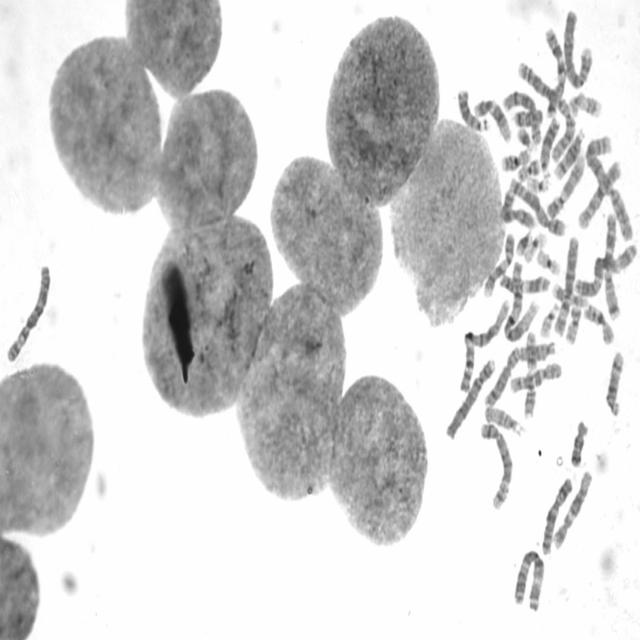A1: (457, 293, 512, 394), (500, 255, 541, 344)
A2: (516, 56, 577, 163), (582, 128, 636, 242)
A3: (572, 237, 638, 298), (510, 543, 546, 612)
B4: (443, 351, 498, 441), (560, 2, 594, 91)
B5: (505, 171, 567, 238), (477, 416, 514, 512)
C10: (574, 154, 622, 230), (506, 356, 564, 395)
C11: (520, 323, 539, 420), (496, 267, 552, 296)
C12: (549, 462, 594, 551), (471, 91, 513, 144)
C6: (3, 257, 52, 364), (551, 230, 581, 337)
C7: (601, 206, 622, 322), (542, 21, 567, 118)
C8: (499, 83, 543, 147), (483, 346, 520, 408)
C9: (544, 149, 586, 220), (481, 227, 516, 298)
D13: (454, 80, 491, 132), (537, 112, 562, 180)
D14: (550, 121, 586, 181), (602, 344, 626, 418)
D15: (481, 399, 526, 437), (518, 341, 556, 364)
E16: (580, 298, 616, 346), (498, 143, 534, 172)
E17: (566, 86, 604, 120), (550, 278, 590, 308)
E18: (567, 413, 590, 468), (510, 103, 545, 128)
F19: (521, 226, 548, 264), (533, 242, 562, 276)
F20: (562, 298, 583, 346), (514, 152, 542, 182)
G21: (512, 224, 534, 256), (514, 121, 536, 152)
G22: (537, 296, 561, 339), (525, 170, 551, 193)
X: (539, 471, 574, 557)
